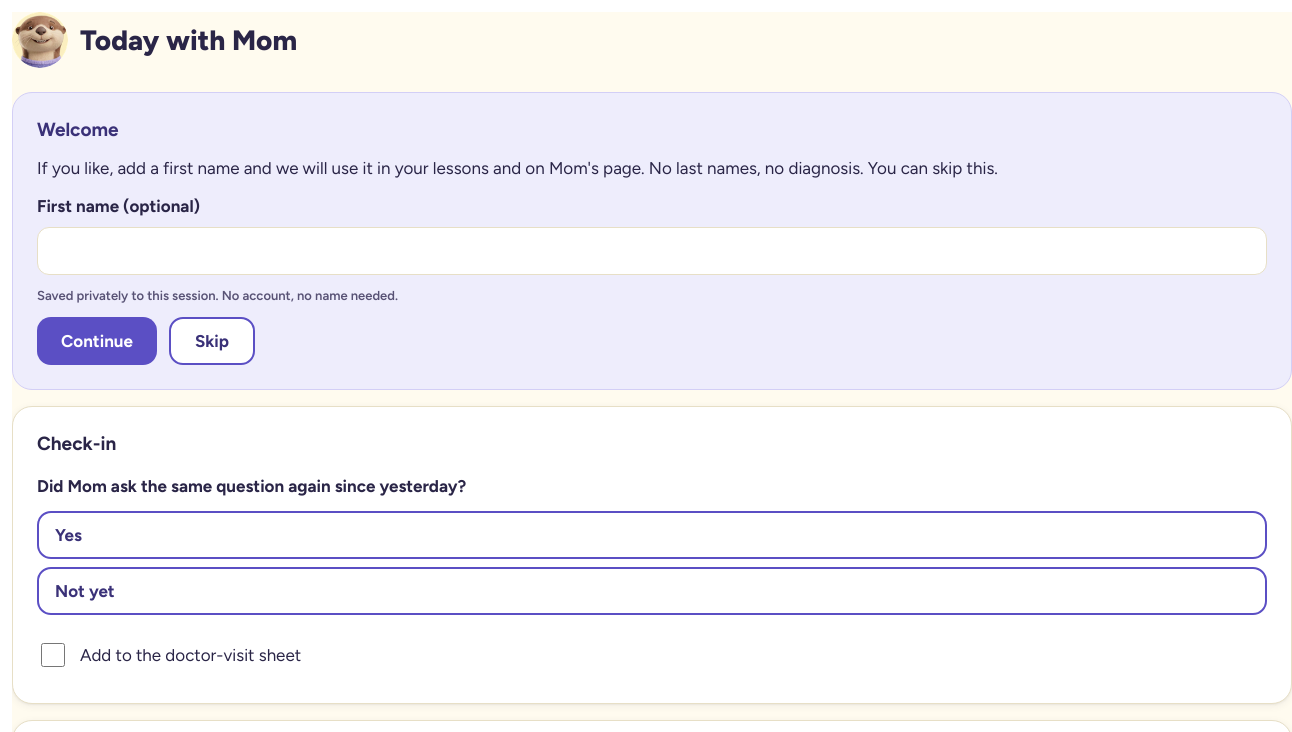
Check-in card › double press sends once and a second submit is not possible after the answer
Expected: the heading "Today with Mom" is shown, [80,23,297,57]
Click the button "Not yet": (85, 591) [37,567,1267,615]
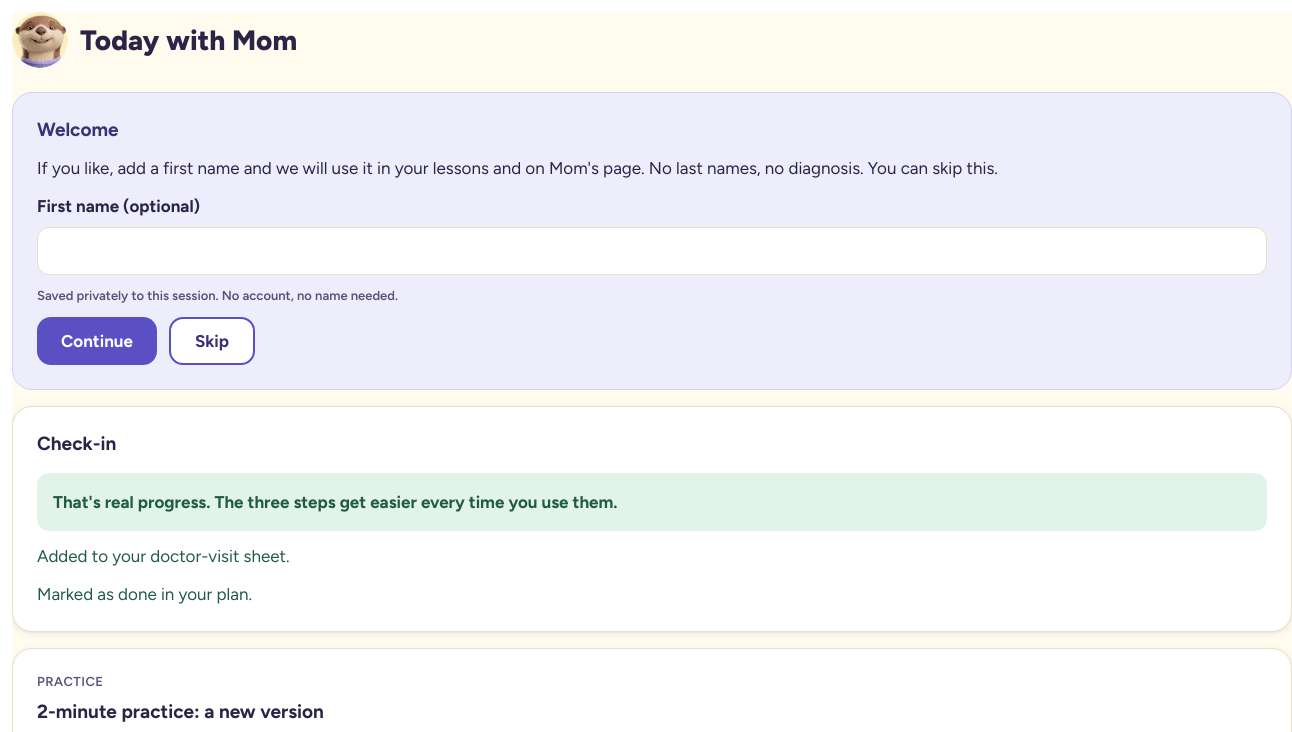
Expected: the button "Not yet" is gone
